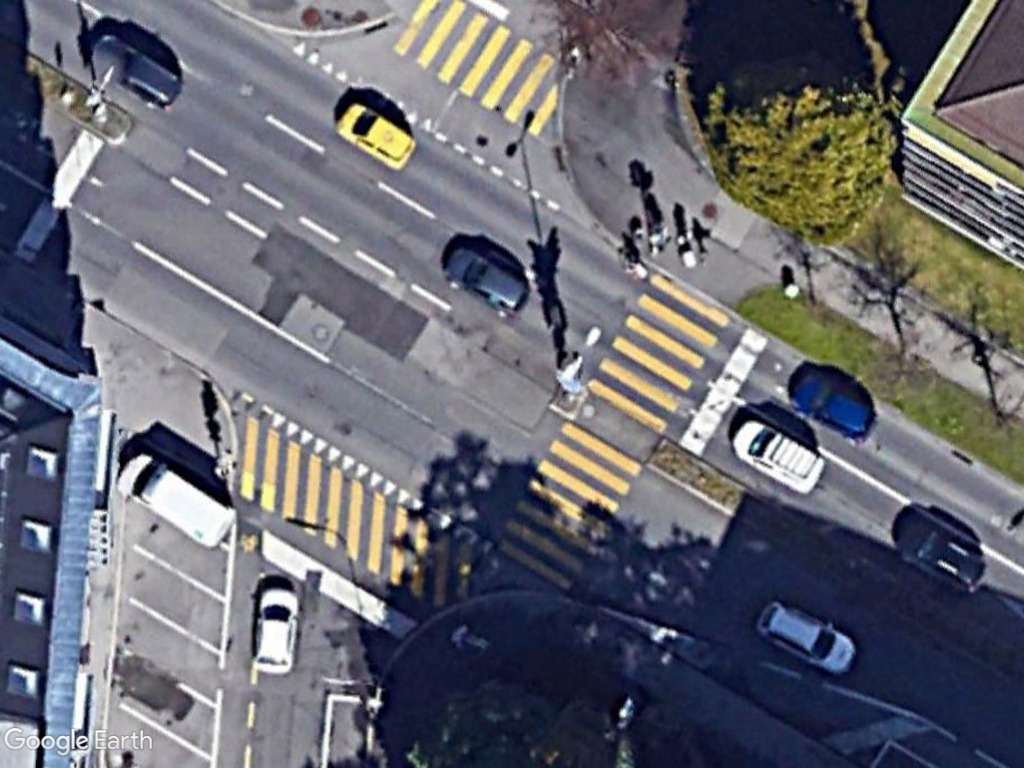car: (752, 593, 864, 680), (894, 512, 992, 598), (787, 365, 880, 445), (334, 96, 424, 174), (445, 246, 535, 319), (246, 584, 305, 681)
van: (117, 446, 241, 556), (729, 412, 829, 499)
